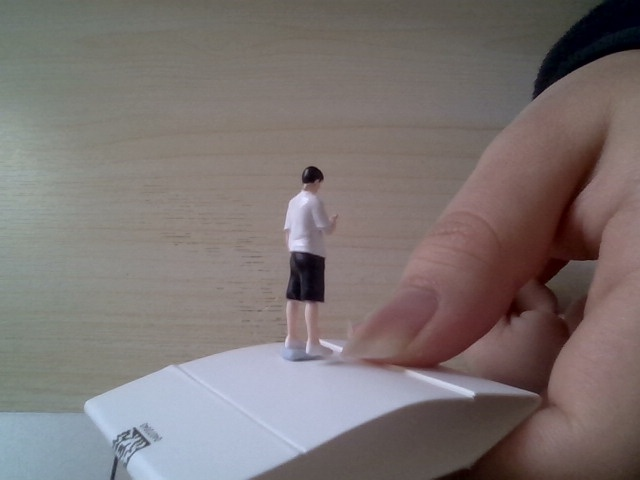walk: (269, 153, 342, 369)
